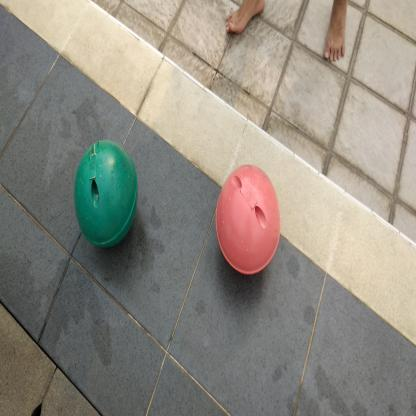green_buoy: (71, 131, 141, 258)
red_buoy: (210, 162, 284, 289)
